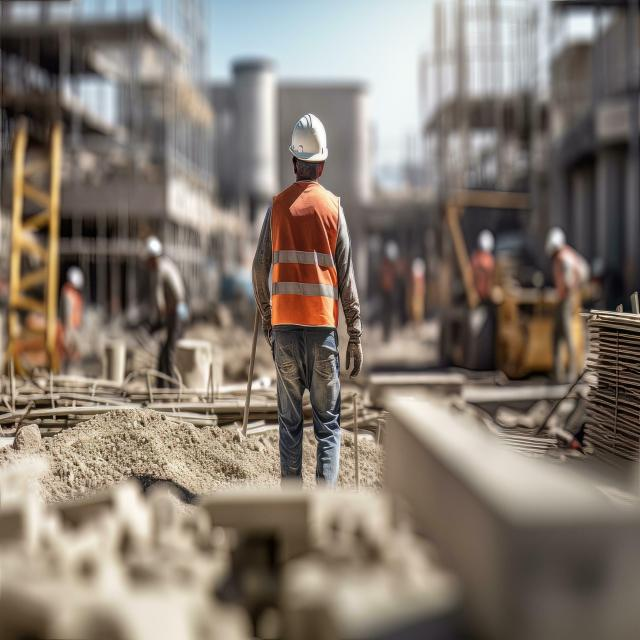person: (255, 112, 358, 492)
safety_helmet: (272, 188, 339, 325)
